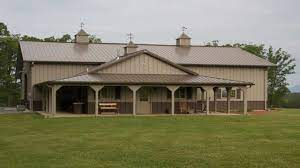Tin-shade House: (11, 27, 282, 116)
